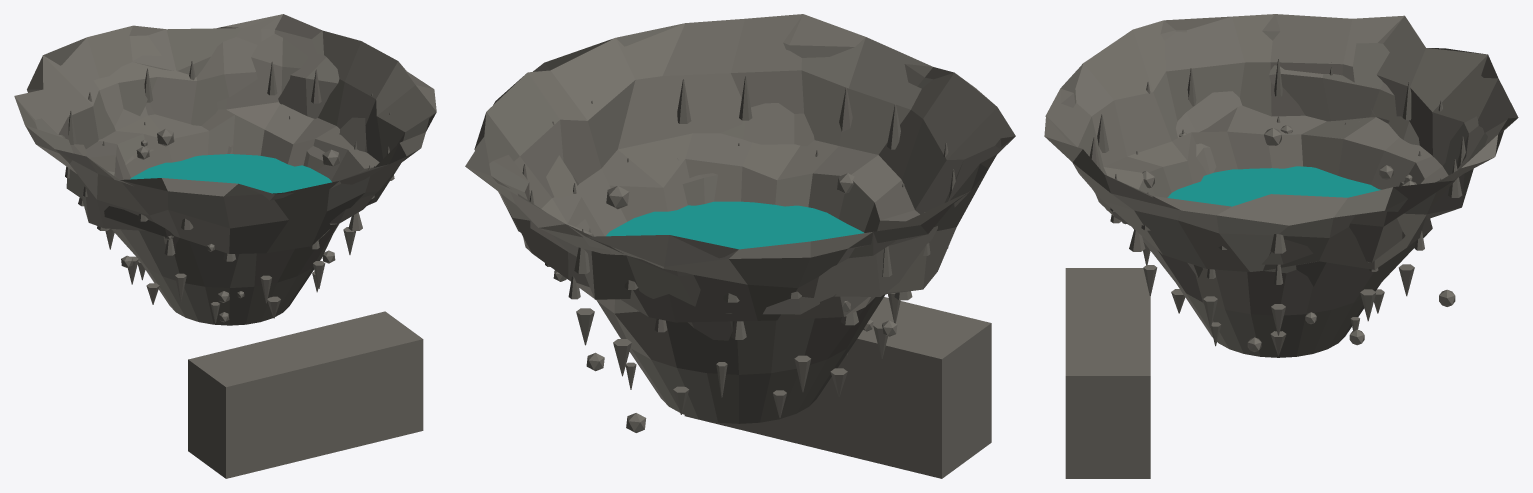
The model's file is cenote-prueba-2.fbx.
3 views of the same model, side by side, from view 1: azimuth 30°, elevation 25°; view 2: azimuth 150°, elevation 25°; view 3: azimuth 270°, elevation 25° (orthographic). The views are drawn at different scales.
Parts seen in each view (by area): view 1: Cenote_LOD0, Cenote_Agua_Fondo; view 2: Cenote_LOD0, Cenote_Agua_Fondo; view 3: Cenote_LOD0, Cenote_Agua_Fondo.
Part boxes in pixels (left/top/right/bottom): Cenote_LOD0: left=14, top=14, right=436, bottom=478; Cenote_Agua_Fondo: left=130, top=154, right=331, bottom=193; Cenote_LOD0: left=465, top=14, right=1015, bottom=478; Cenote_Agua_Fondo: left=606, top=201, right=863, bottom=249; Cenote_LOD0: left=1044, top=14, right=1518, bottom=478; Cenote_Agua_Fondo: left=1167, top=166, right=1380, bottom=206.
Size of what is drawn, in the model's own units: 3269 by 2508 by 3342.
